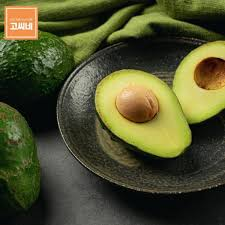avocado: (96, 70, 192, 159), (174, 41, 225, 126)
